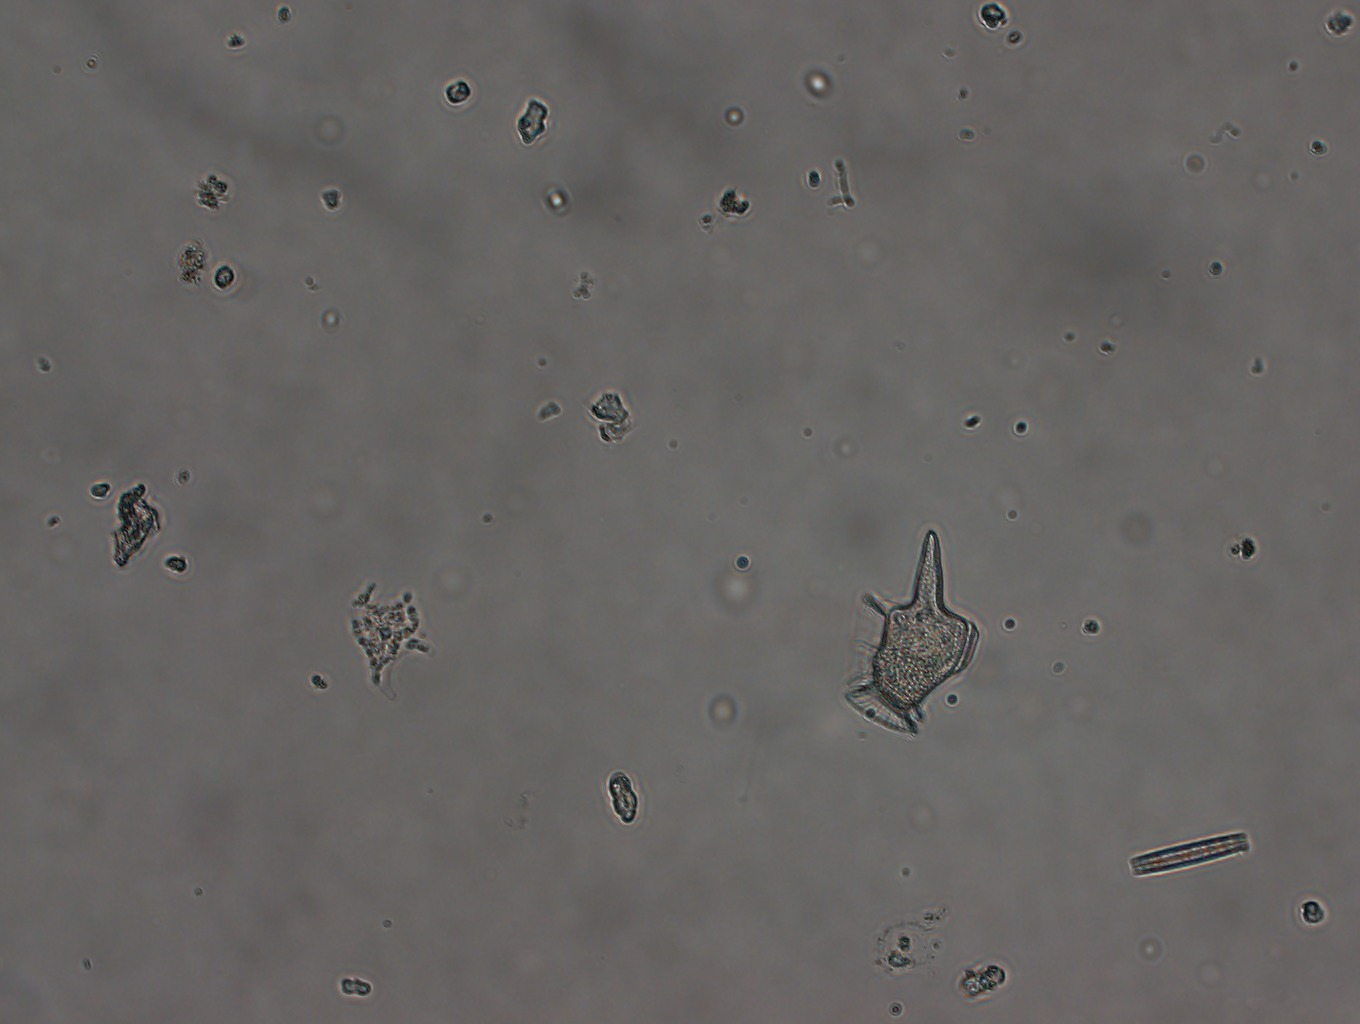dinophysis caudata: (836, 522, 983, 749)
